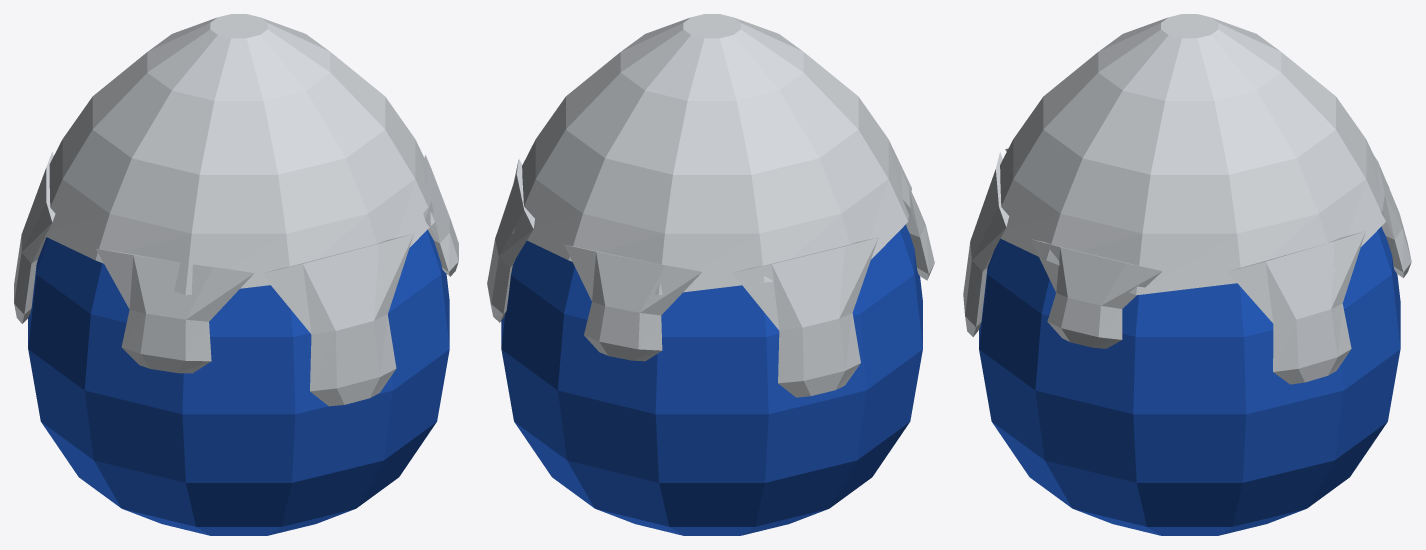
File: SnowCap.fbx
3 views of the same model, side by side, from view 1: azimuth 30°, elevation 25°; view 2: azimuth 150°, elevation 25°; view 3: azimuth 270°, elevation 25° (orthographic).
Visible parts, largest first — view 1: Body; view 2: Body; view 3: Body.
Boxes of the visible parts, left/top/right/bottom form: Body: left=14, top=14, right=458, bottom=535; Body: left=487, top=14, right=934, bottom=535; Body: left=963, top=14, right=1411, bottom=535.
Bounding box in the file's own units: 4.64 × 5.65 × 4.93.
